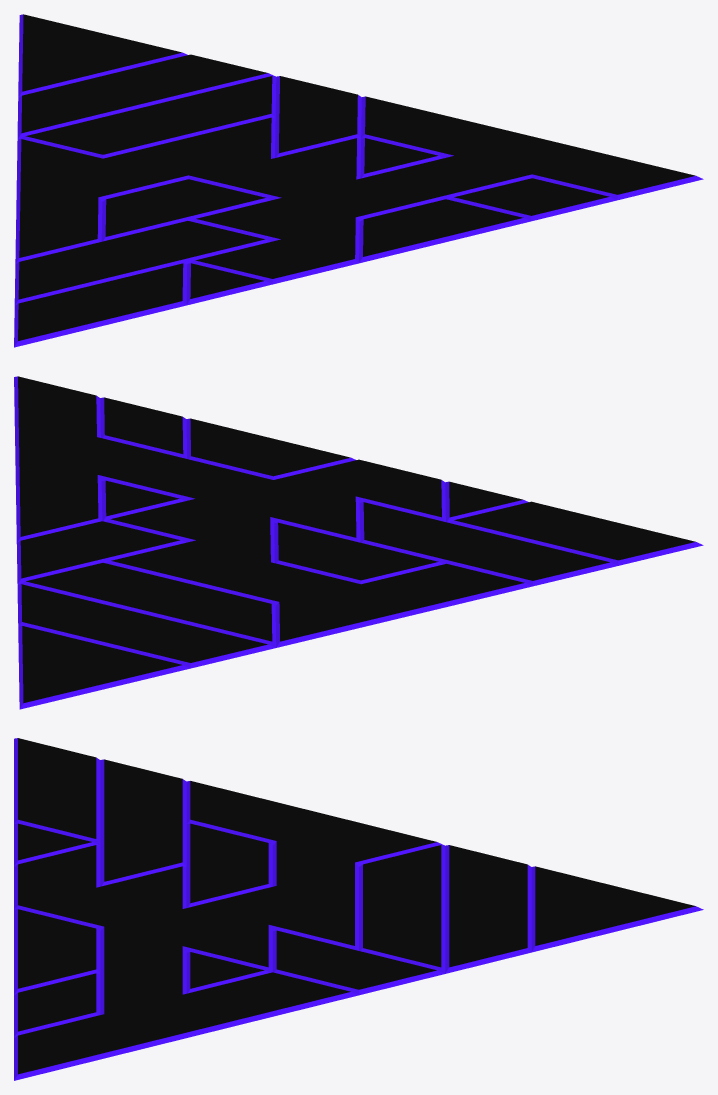
Rendered from Cyberpunk Triangle Tile.009.glb.
3 renders of one model, top to bottom at view 1: azimuth 30°, elevation 25°; view 2: azimuth 150°, elevation 25°; view 3: azimuth 270°, elevation 25°, orthographic.
Visible parts, largest first — view 1: Cyberpunk Triangle Tile.009; view 2: Cyberpunk Triangle Tile.009; view 3: Cyberpunk Triangle Tile.009.
Part boxes in pixels (x1,y1,x2,y2): Cyberpunk Triangle Tile.009: (14, 14, 703, 347); Cyberpunk Triangle Tile.009: (14, 376, 703, 709); Cyberpunk Triangle Tile.009: (14, 738, 703, 1080).
Bounding box in the file's own units: 1.02 × 0.005 × 0.8664.
Materials: 1 (1 with a texture image).
